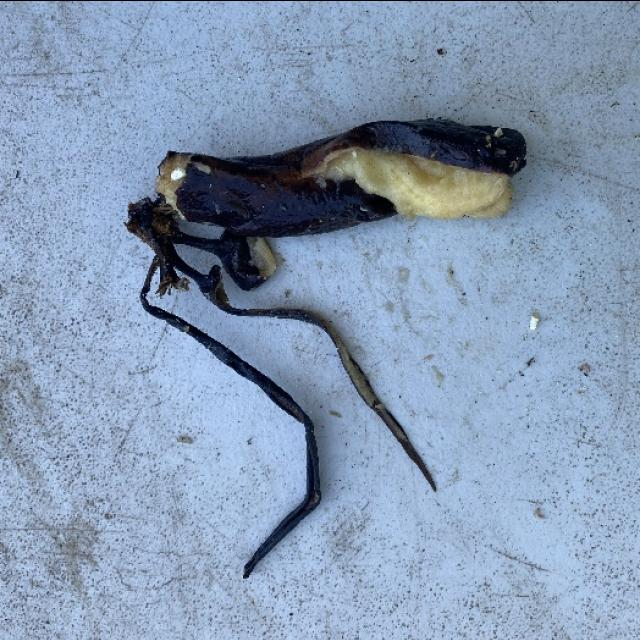organik: (152, 117, 524, 236)
